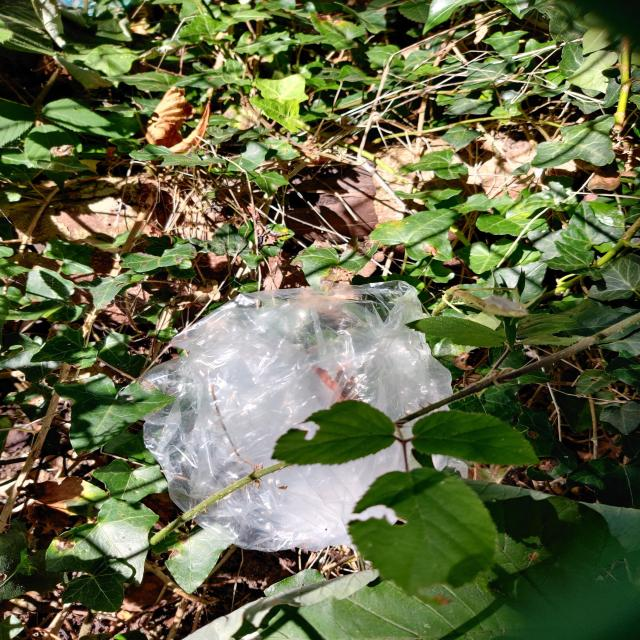litter: (144, 281, 466, 546)
